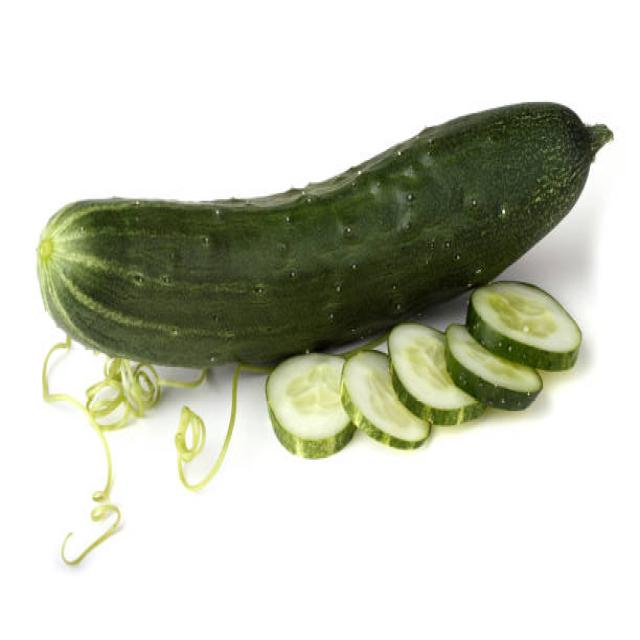cucumber: (39, 97, 588, 370)
